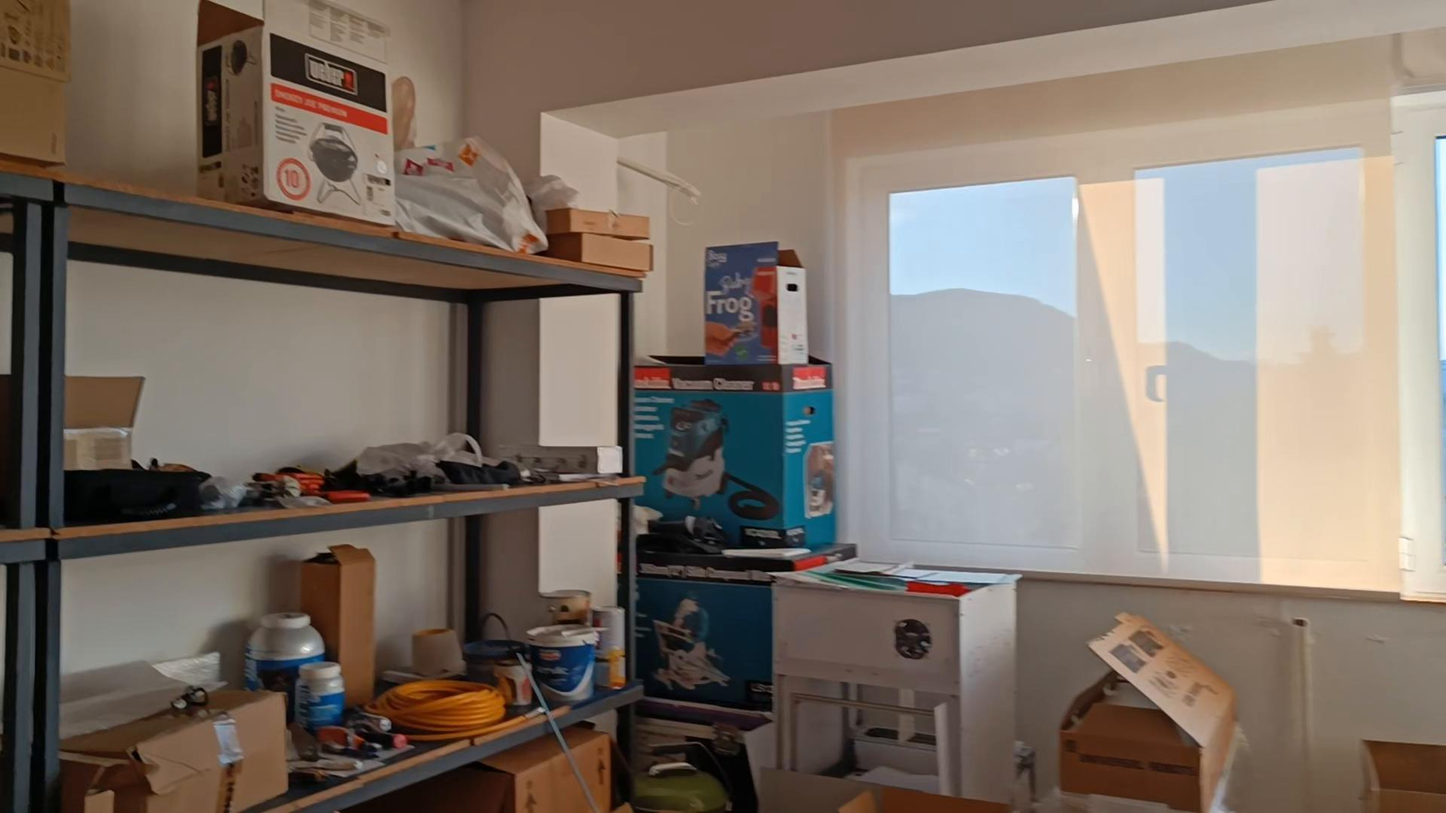wall: (392, 1, 1441, 344), (75, 267, 450, 455)
